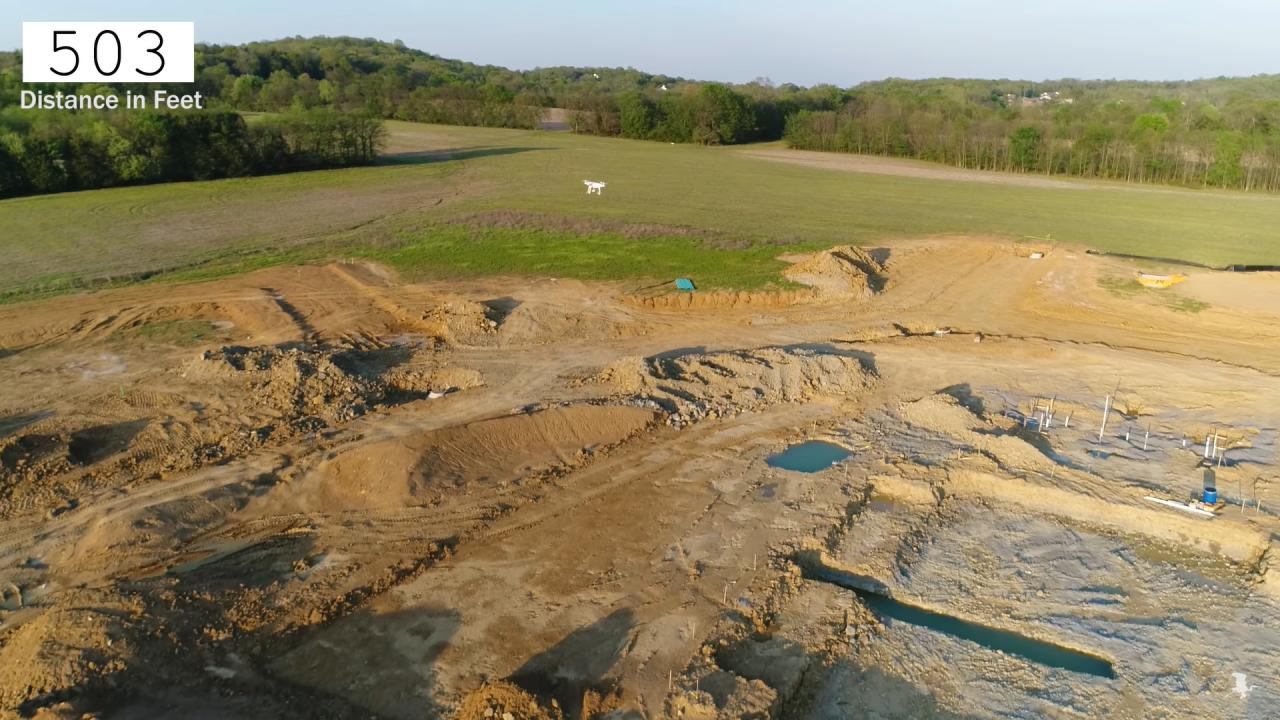Drone: (575, 171, 614, 203)
